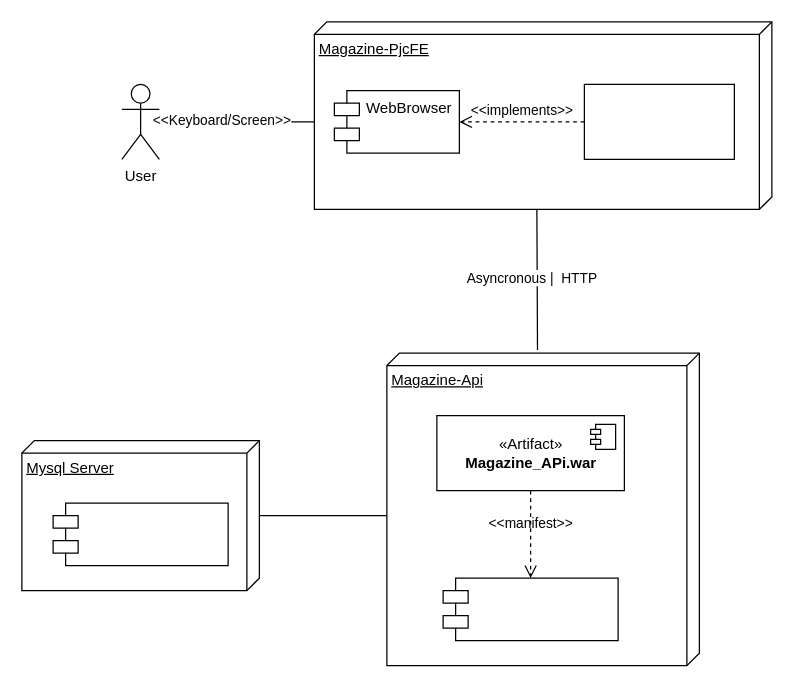
The diagram is 794 pixels wide and 688 high, and some of its shapes have lost their labels. Each missing label, with the centre of its shape:
"<<artifact>> HttpService" belongs at (658,121).
"Database Interface" belongs at (530,609).
"Mysql Database" belongs at (140,534).
